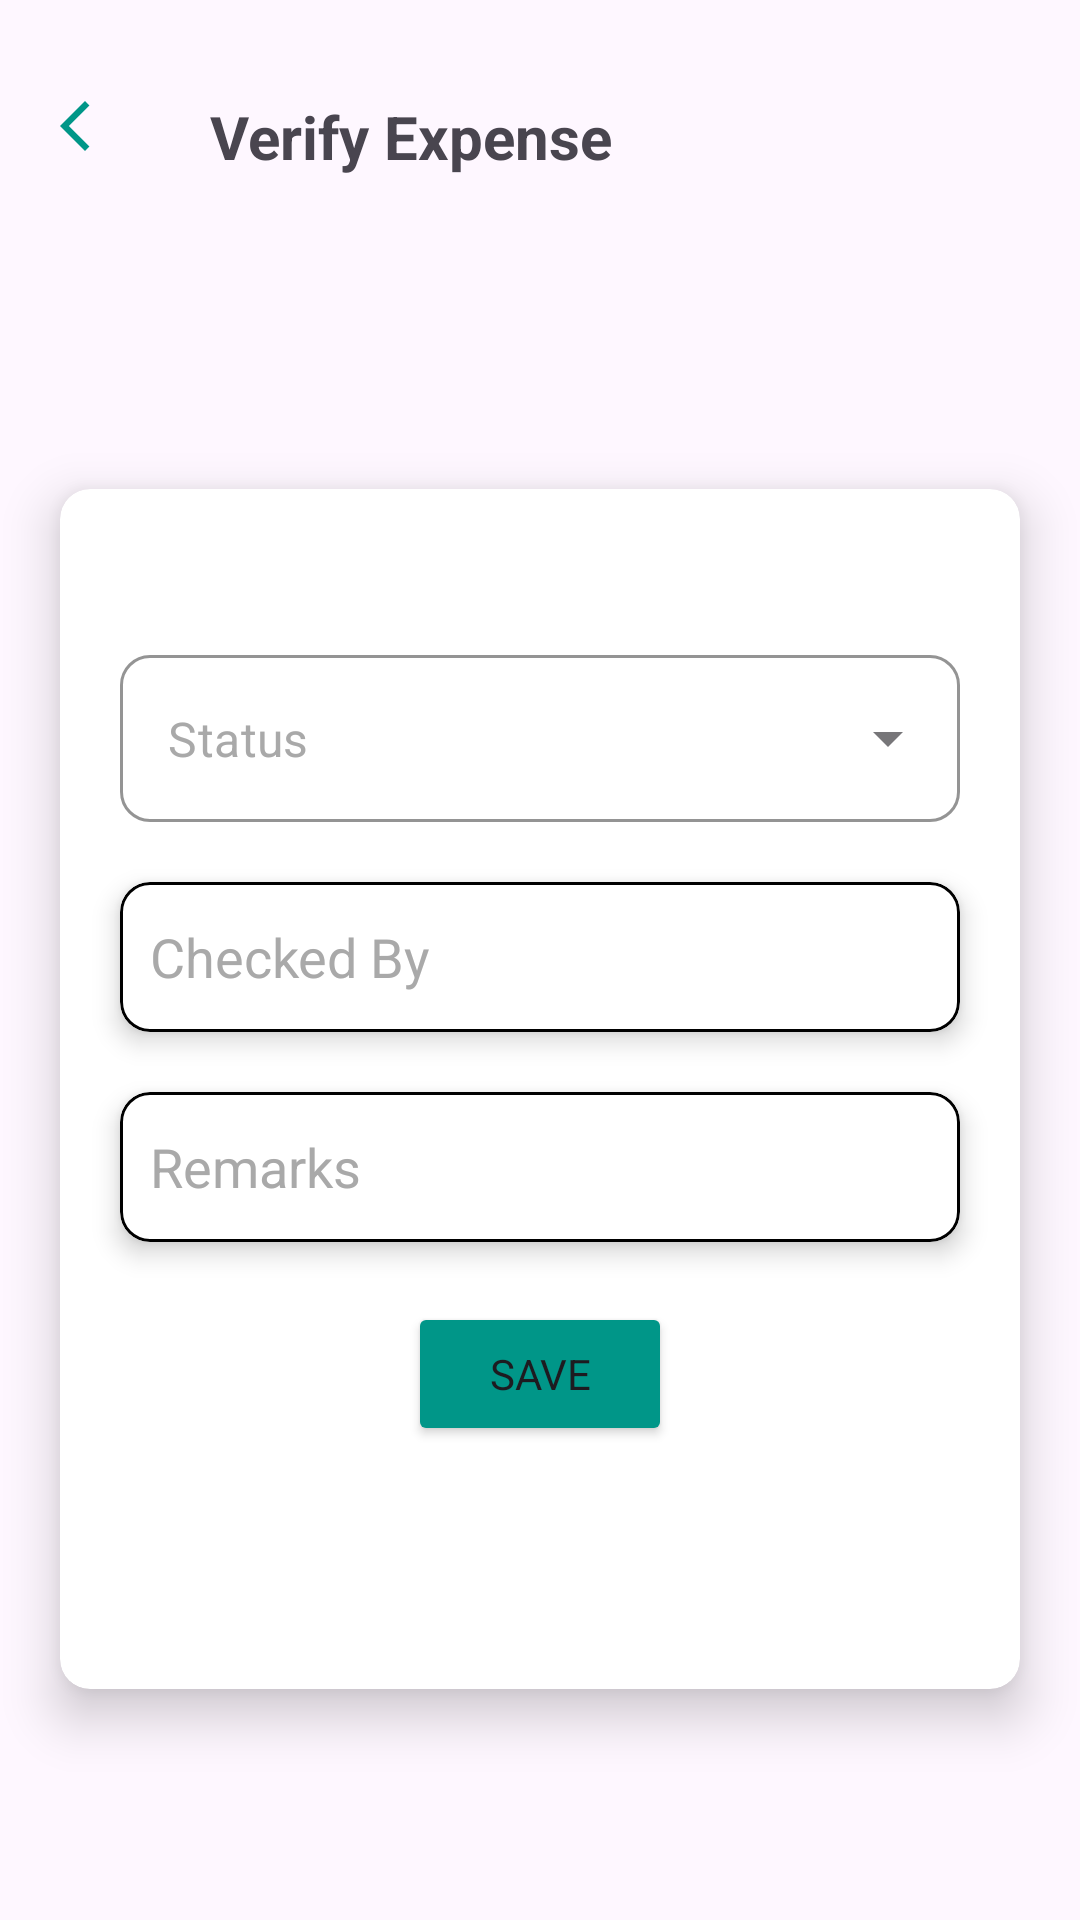

Screen size 1080*1920. Icon name, then its center in pixels as (x,y):
back: (75,126)
